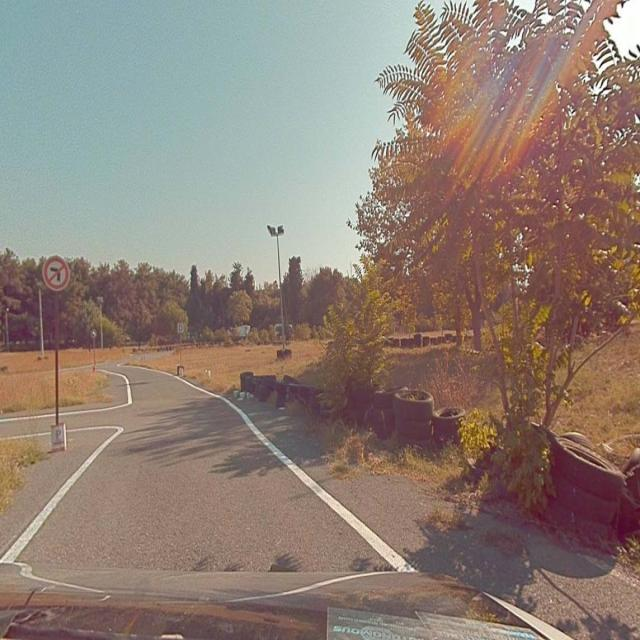durak: (178, 324, 184, 332)
soladonulmez: (44, 257, 68, 288)
